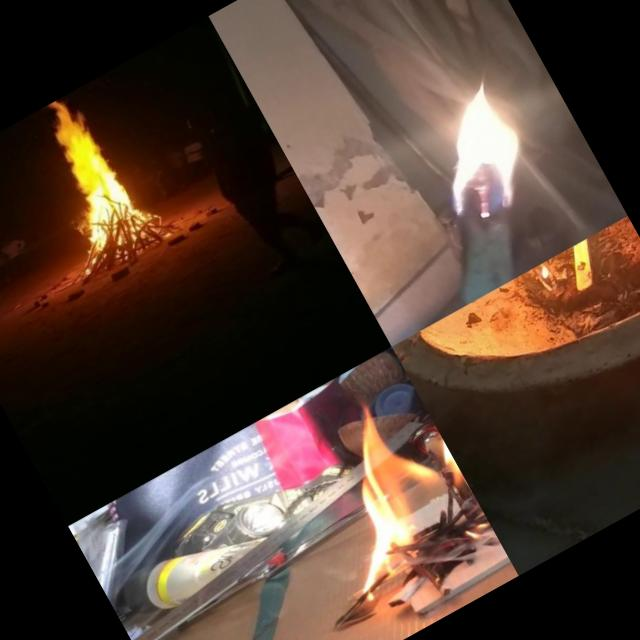fire: (283, 374, 492, 594), (389, 52, 582, 245), (17, 85, 157, 252)
